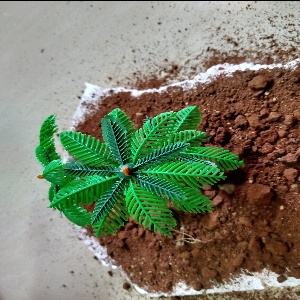plant: (26, 101, 234, 241)
